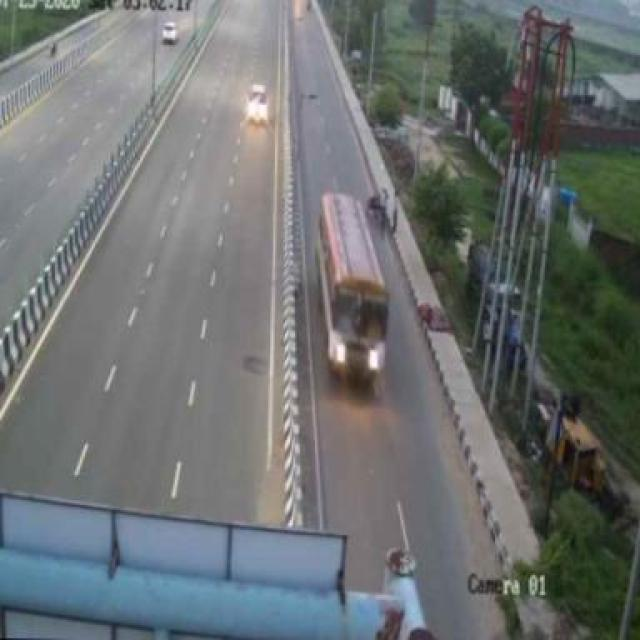car: (242, 78, 276, 128)
